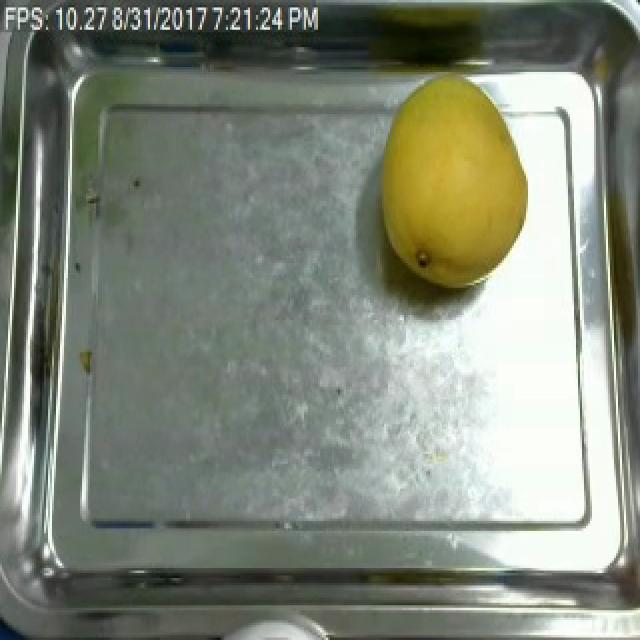fruit: (366, 67, 538, 300)
